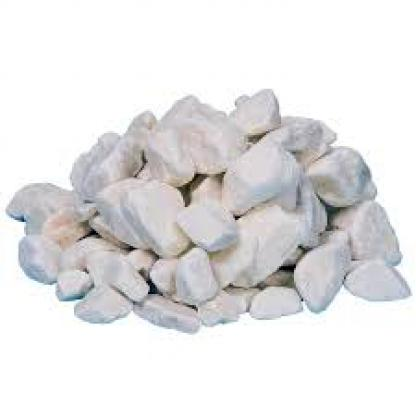Metamorphic_Marble: (59, 100, 161, 203), (142, 87, 246, 177), (220, 142, 307, 218), (112, 176, 188, 257), (310, 137, 384, 209), (164, 194, 246, 252), (290, 235, 353, 305), (338, 252, 405, 310), (235, 74, 294, 135), (10, 229, 68, 285), (76, 283, 135, 325), (172, 242, 214, 300), (52, 268, 94, 301)
